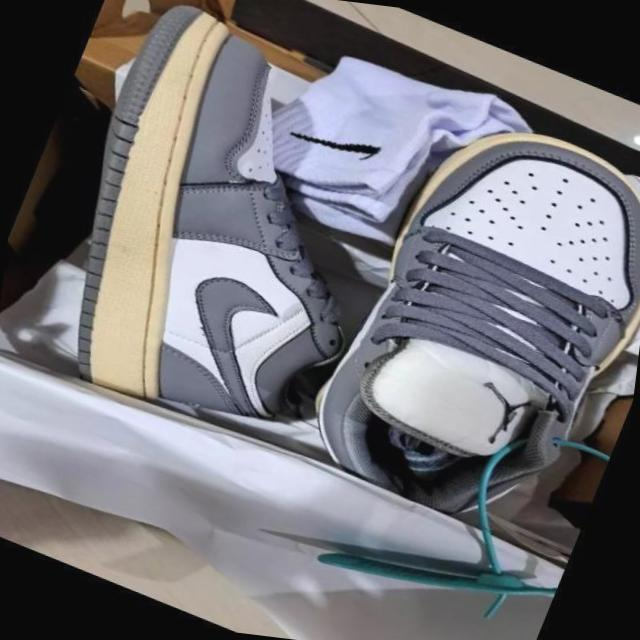nike_fake_jordan: (0, 0, 457, 481), (279, 70, 640, 569)
